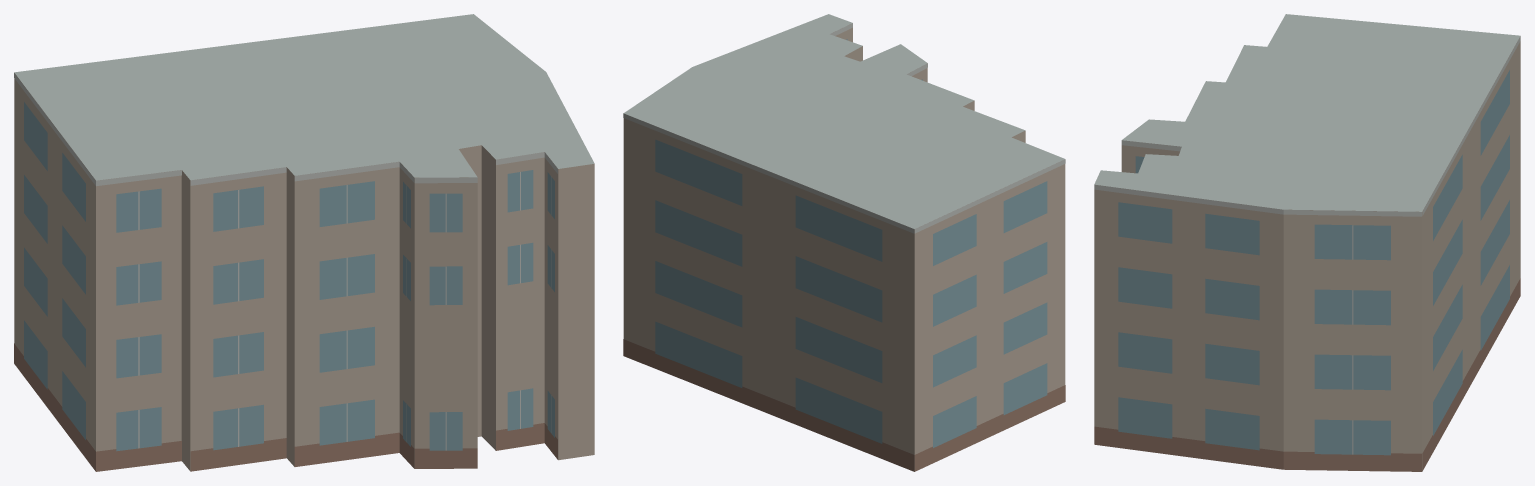
File: survey-upis-32995141.glb
3 views of the same model, side by side, from view 1: azimuth 30°, elevation 25°; view 2: azimuth 150°, elevation 25°; view 3: azimuth 270°, elevation 25° (orthographic). The views are drawn at different scales.
Parts seen in each view (by area): view 1: survey-upis-32995141.tmp; view 2: survey-upis-32995141.tmp; view 3: survey-upis-32995141.tmp.
Part boxes in pixels (<box>): survey-upis-32995141.tmp: <box>14,14,594,471</box>; survey-upis-32995141.tmp: <box>623,14,1065,471</box>; survey-upis-32995141.tmp: <box>1094,14,1520,471</box>.
Bounding box in the file's own units: 20.91 × 12.81 × 19.05.
